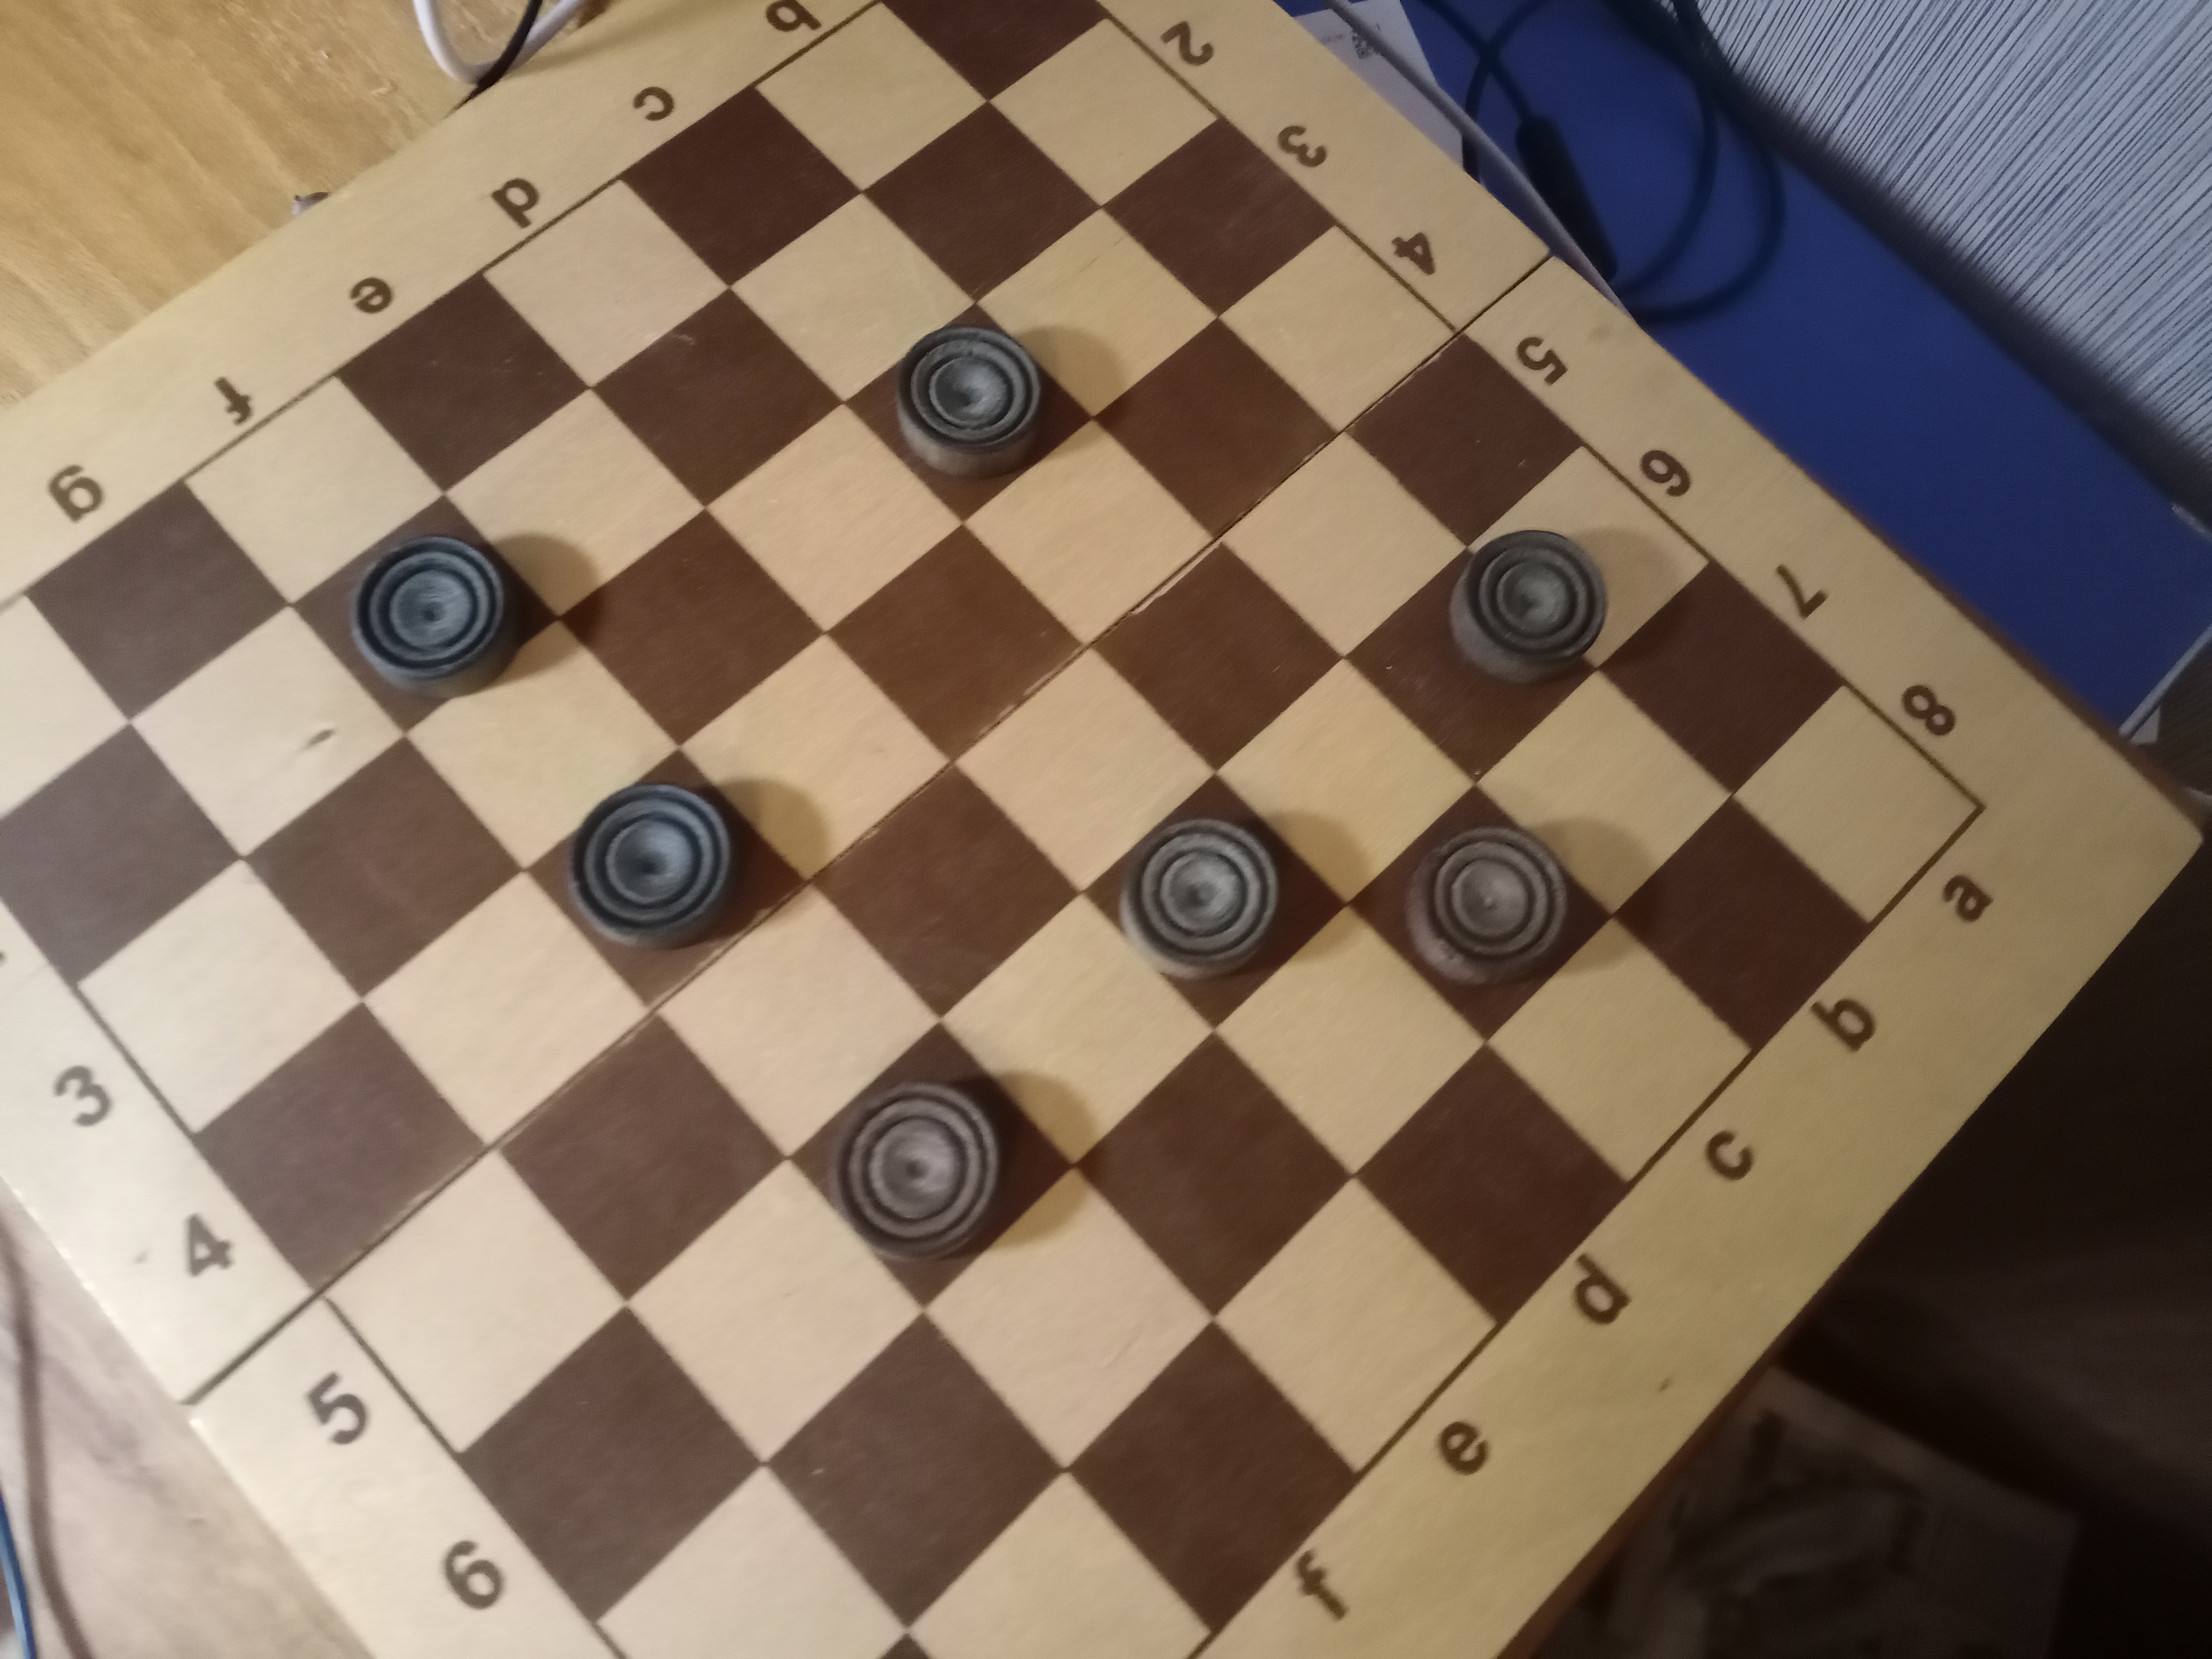Black_Draught: (787, 1019, 1075, 1314), (524, 746, 810, 1007), (1080, 770, 1348, 1030), (1350, 784, 1613, 1042), (1345, 530, 1609, 781), (289, 493, 557, 734), (843, 301, 1094, 525)
